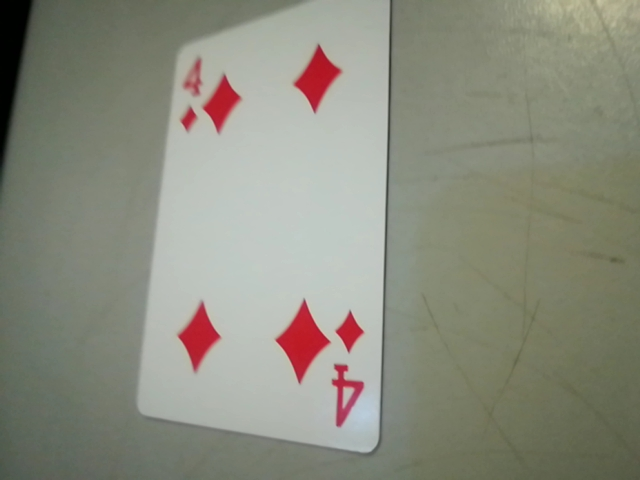fk 4: (325, 298, 379, 439)
